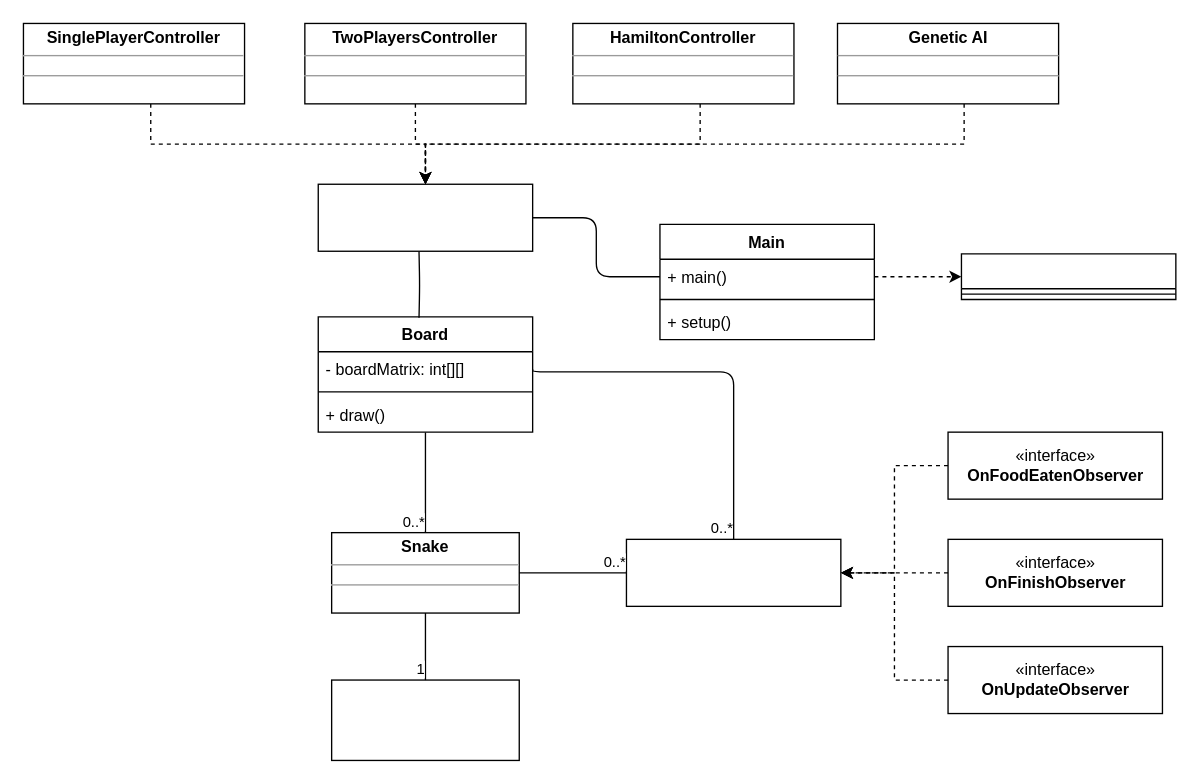
Image size: 1199x784. Some labels were removed from this diagram. Each missing label, with the box of its shape:
Food: (330, 679, 519, 760)
PApplet: (960, 253, 1176, 299)
«interface» Observer: (625, 538, 841, 606)
«interface» SnakeController: (317, 183, 533, 251)
